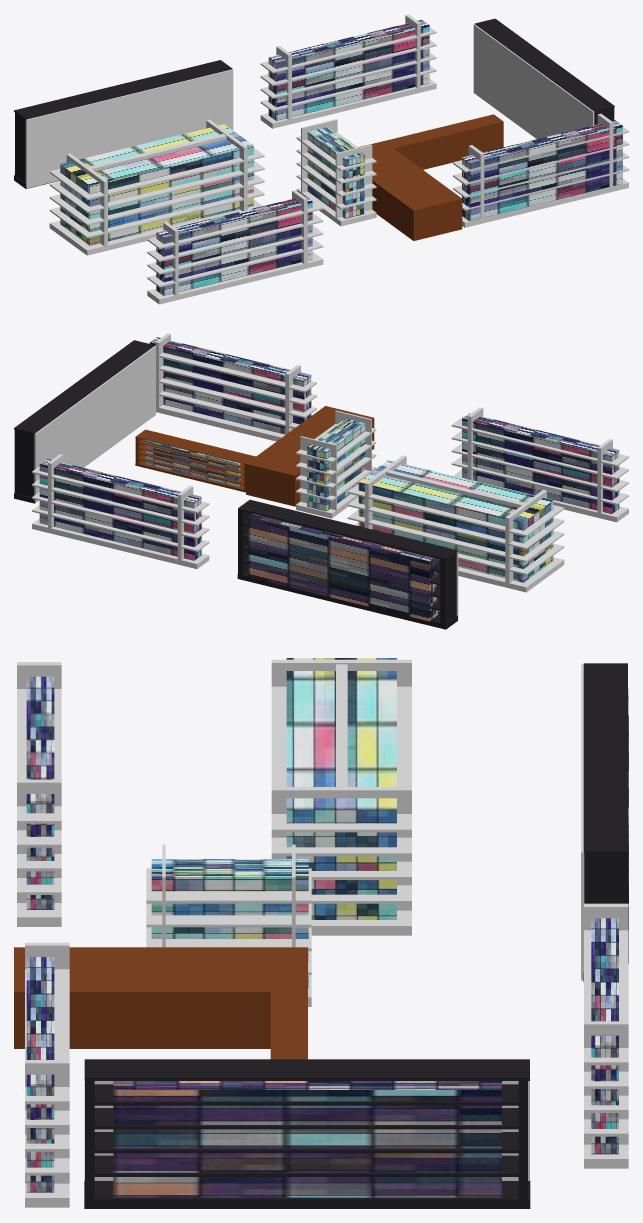
The model's file is NuecesMartSemiCombined.fbx.
3 renders of one model, top to bottom at view 1: azimuth 30°, elevation 25°; view 2: azimuth 150°, elevation 25°; view 3: azimuth 270°, elevation 25°, orthographic. The views are drawn at different scales.
Visible parts, largest first — view 1: Cube.037, Grocery, Cube.028, Cube.029, Cube.011, Cube; view 2: Cube.037, Cube.017, Grocery, Cube.011, Cube.029, Cube.028, Cube, Cube.027; view 3: Cube.037, Cube.026, Grocery, Cube, Cube.028, Cube.029, Cube.011.
Part boxes in pixels (x1,y1,x2,y2): Cube.037: (14, 14, 628, 304); Grocery: (60, 124, 253, 245); Cube.028: (462, 120, 622, 221); Cube.029: (268, 20, 429, 120); Cube.011: (156, 196, 312, 295); Cube: (307, 127, 364, 218); Cube.037: (14, 333, 628, 629); Cube.017: (248, 513, 437, 621); Grocery: (358, 460, 553, 582); Cube.011: (462, 413, 619, 513); Cube.029: (39, 459, 201, 560); Cube.028: (149, 337, 311, 434); Cube: (307, 418, 365, 511); Cube.027: (145, 440, 241, 486); Cube.037: (14, 659, 628, 1208); Cube.026: (113, 1081, 501, 1197); Grocery: (286, 658, 396, 919); Cube: (151, 859, 308, 987); Cube.028: (26, 957, 54, 1192); Cube.029: (591, 918, 618, 1154); Cube.011: (26, 676, 54, 909).
Size of the model in its own units: 4899 by 687 by 2927.
18 materials, 8 textured.
